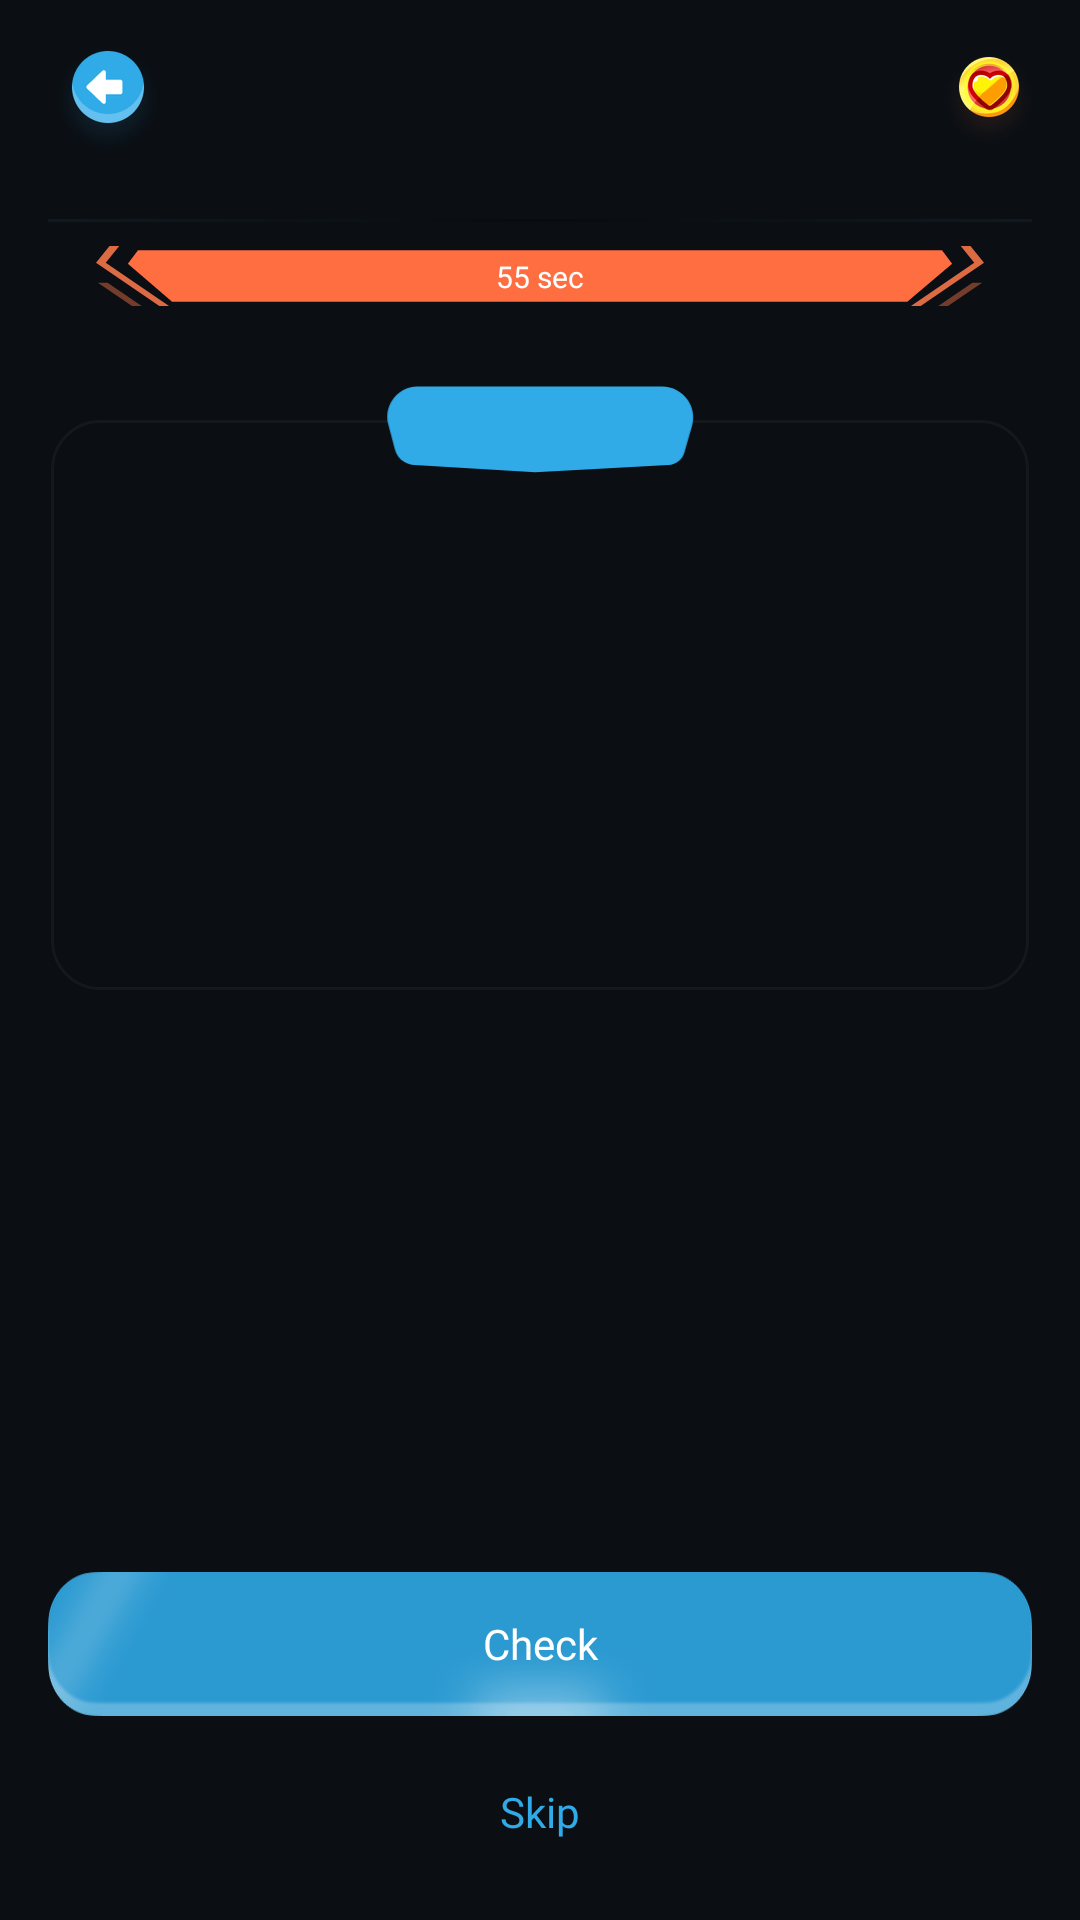

Where icons sit on this 1080px x 1920px app screen, as [x1, y1, x2, y2]:
back: [72, 51, 144, 124]
coin: [959, 57, 1019, 118]
